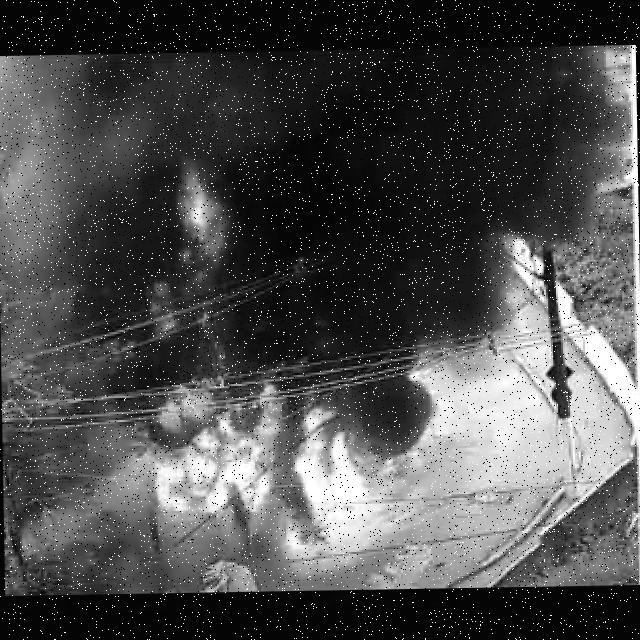Fire: (133, 363, 402, 554), (133, 158, 244, 336)
Smoke: (0, 45, 625, 395)
